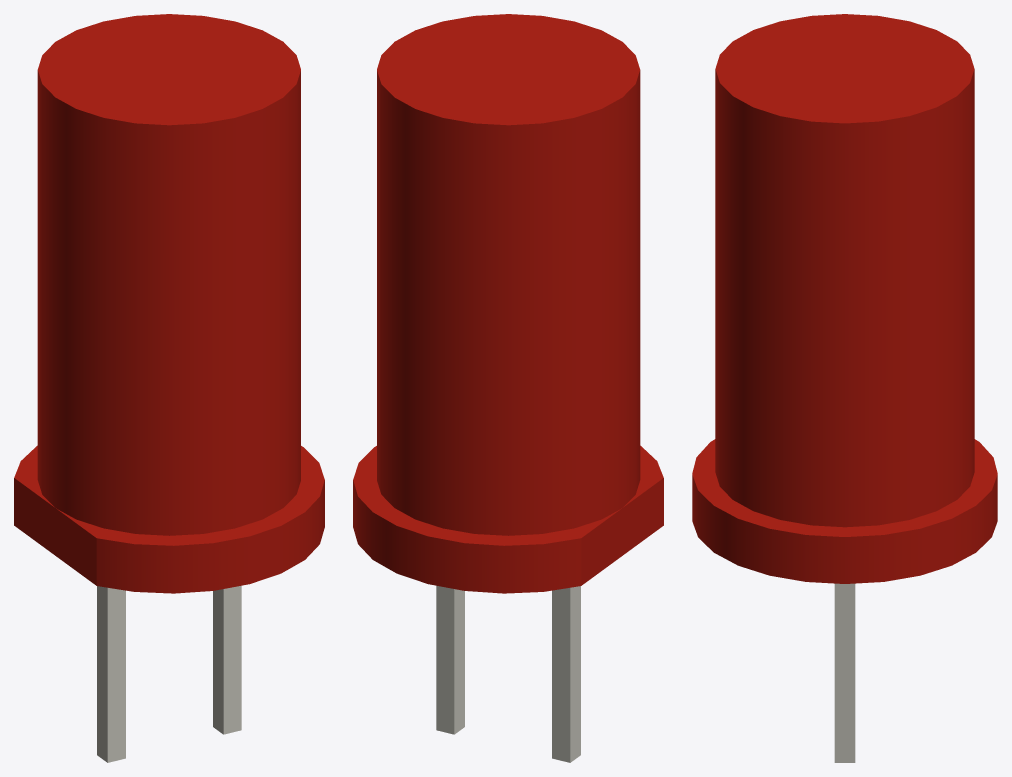
Rendered from LED_THT__LED_D5.0mm_FlatTop.glb.
The picture shows the model from 3 angles, left to right: view 1: azimuth 30°, elevation 25°; view 2: azimuth 150°, elevation 25°; view 3: azimuth 270°, elevation 25°; orthographic projection.
Parts seen in each view (by area): view 1: LED_D5.0mm_FlatTop; view 2: LED_D5.0mm_FlatTop; view 3: LED_D5.0mm_FlatTop.
Boxes of the visible parts, box(x1,y1,x2,y2) form: LED_D5.0mm_FlatTop: box(14, 14, 324, 762); LED_D5.0mm_FlatTop: box(353, 14, 663, 762); LED_D5.0mm_FlatTop: box(692, 14, 997, 762).
Size of the model in its own units: 0.00545 by 0.0141 by 0.0059.
